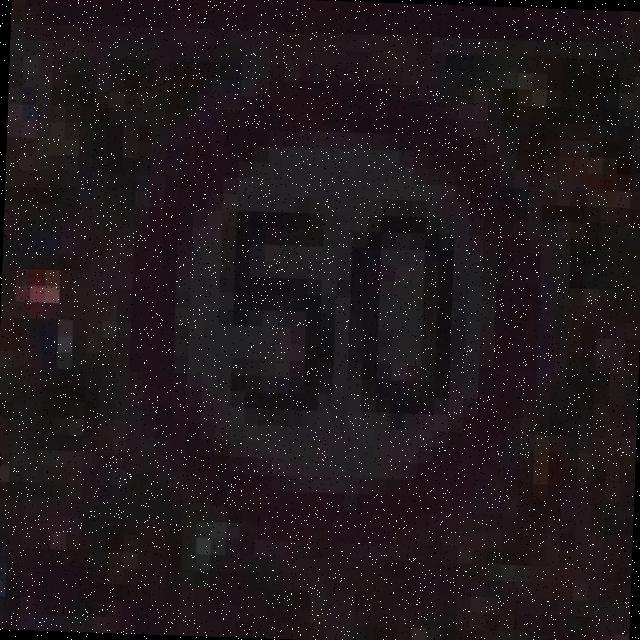Ograniczenie predkosci do 50: (128, 58, 542, 564)
